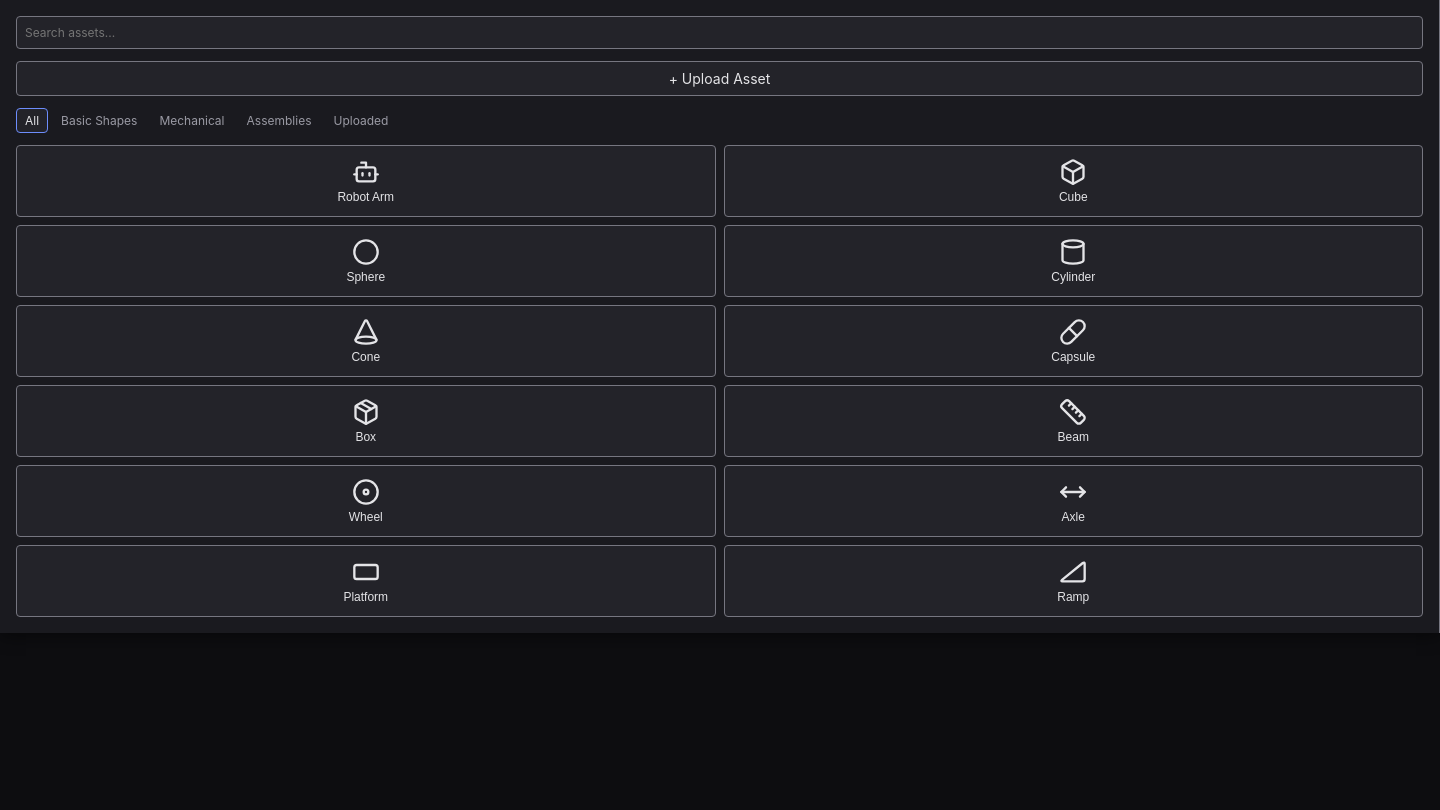
Test: AssetLibraryPanel › Uploaded shows an empty state, not an error
Click the tab "Uploaded".
click(361, 120)  # box [324, 108, 397, 133]
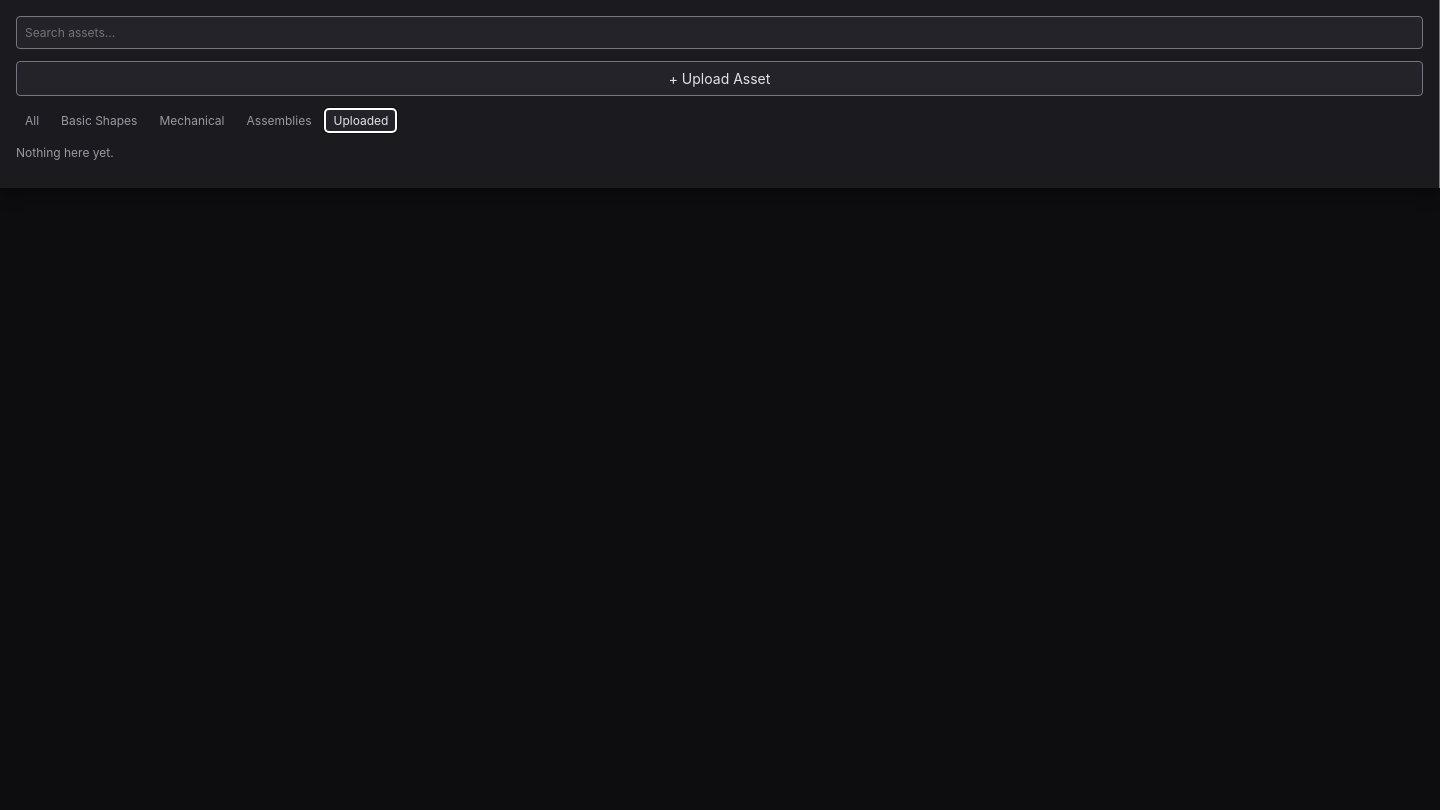
Check: the text "Nothing here yet." is shown, box [16, 145, 114, 160]
